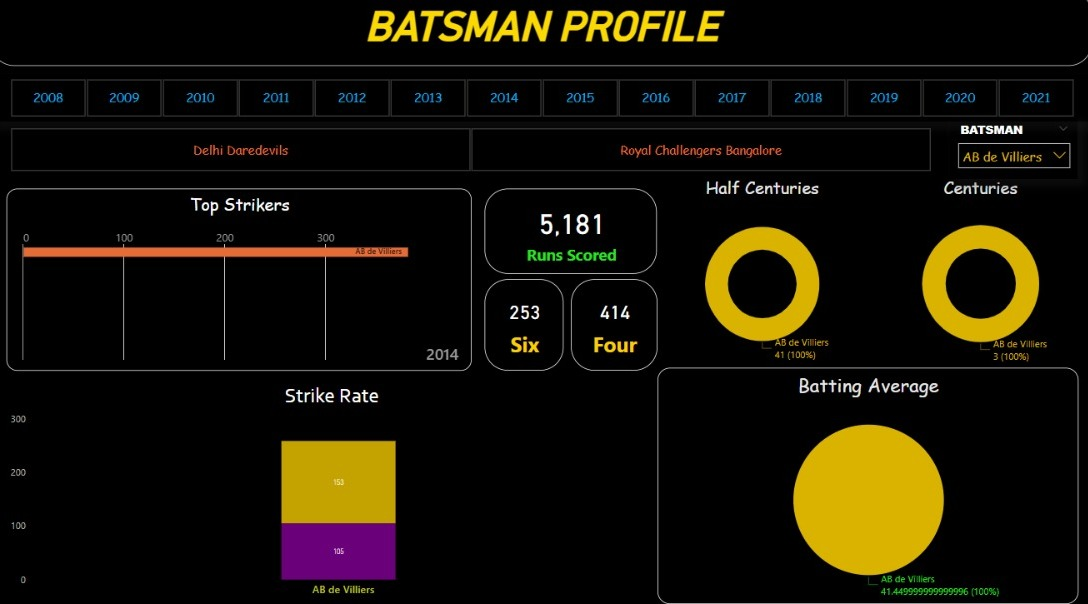

Layout of this report page (visuals, bound fields, positions):
{"tool":"powerbi","page":{"name":"Batsman","canvas":[1420,800],"ordinal":2},"visuals":[{"type":"textbox","box":[0,0,1416.4,96.5],"z":0},{"type":"slicer","fields":{"Values":["BATSMAN SEASONAL.Season"]},"box":[0,107.2,1416.4,61.6],"z":1000},{"type":"slicer","fields":{"Values":["BATSMAN SEASONAL.Batting Team"]},"box":[0,169.9,1232.9,68.5],"z":2000},{"type":"wishyoulizationbarchartrace","title":"Top Strikers","fields":{"value":["Sum(BATSMAN SEASONAL.Runs Scored)"],"year":["BATSMAN SEASONAL.Season"],"name":["BATSMAN SEASONAL.Batsman"]},"box":[20,254.3,598.6,234.3],"z":3000},{"type":"columnChart","title":"Strike Rate","fields":{"Category":["BATSMAN SEASONAL.Batsman"],"Y":["Avg(BATSMAN SEASONAL.Strike Rate)"],"Series":["BATSMAN SEASONAL.Batting Team"]},"box":[20,504.3,837.1,285.7],"z":4000},{"type":"donutChart","title":"Centuries","fields":{"Category":["BATSMAN SEASONAL.Batsman"],"Y":["Sum(BATSMAN SEASONAL.Centuries)"]},"box":[1127.1,238.6,292.9,247.1],"z":5000},{"type":"donutChart","title":"Half Centuries","fields":{"Category":["BATSMAN SEASONAL.Batsman"],"Y":["Sum(BATSMAN SEASONAL.Half Centuries)"]},"box":[857.1,238.6,270,248.6],"z":6000},{"type":"card","fields":{"Values":["Sum(BATSMAN SEASONAL.Four)"]},"box":[745.9,371.6,110.8,117.6],"z":7000},{"type":"card","fields":{"Values":["Sum(BATSMAN SEASONAL.Six)"]},"box":[635.1,371.6,101.4,117.6],"z":8000},{"type":"slicer","fields":{"Values":["BATSMAN SEASONAL.Batsman"]},"box":[1234.3,162.9,164.3,78.6],"z":9000},{"type":"pieChart","title":"Batting Average","fields":{"Category":["BATSMAN SEASONAL.Batsman"],"Y":["Avg(BATSMAN SEASONAL.Batting Average)"]},"box":[857.1,485.7,541.4,304.3],"z":10000},{"type":"card","fields":{"Values":["Sum(BATSMAN SEASONAL.Runs Scored)"]},"box":[635.1,254.1,221.6,109.5],"z":11000}]}

Visuals, with their boxes in screenshot pixels (x1, y1, x2, y2), scaled from the page's 1420x800 canvas onto the 1088x604 screenshot:
textbox: region(0, 0, 1085, 73)
slicer - BATSMAN SEASONAL.Season: region(0, 81, 1085, 127)
slicer - BATSMAN SEASONAL.Batting Team: region(0, 128, 945, 180)
"Top Strikers" wishyoulizationbarchartrace: region(15, 192, 474, 369)
"Strike Rate" columnChart: region(15, 381, 657, 596)
"Centuries" donutChart: region(864, 180, 1087, 367)
"Half Centuries" donutChart: region(657, 180, 864, 368)
card - Sum(BATSMAN SEASONAL.Four): region(572, 281, 656, 369)
card - Sum(BATSMAN SEASONAL.Six): region(487, 281, 564, 369)
slicer - BATSMAN SEASONAL.Batsman: region(946, 123, 1072, 182)
"Batting Average" pieChart: region(657, 367, 1072, 596)
card - Sum(BATSMAN SEASONAL.Runs Scored): region(487, 192, 656, 275)
